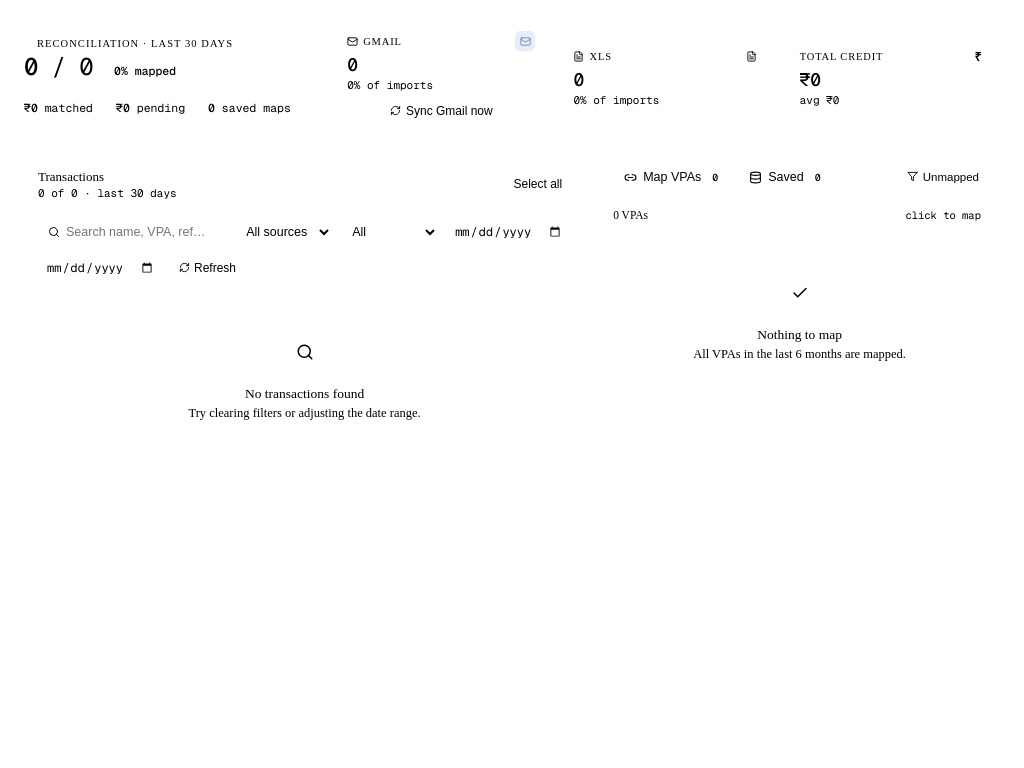
Test: Sync Gmail now on the UPI page (MN-06) › when Gmail is not connected the server's message is shown
Click the button with test id "sync-gmail".
click(441, 111)  # box [347,100,536,122]
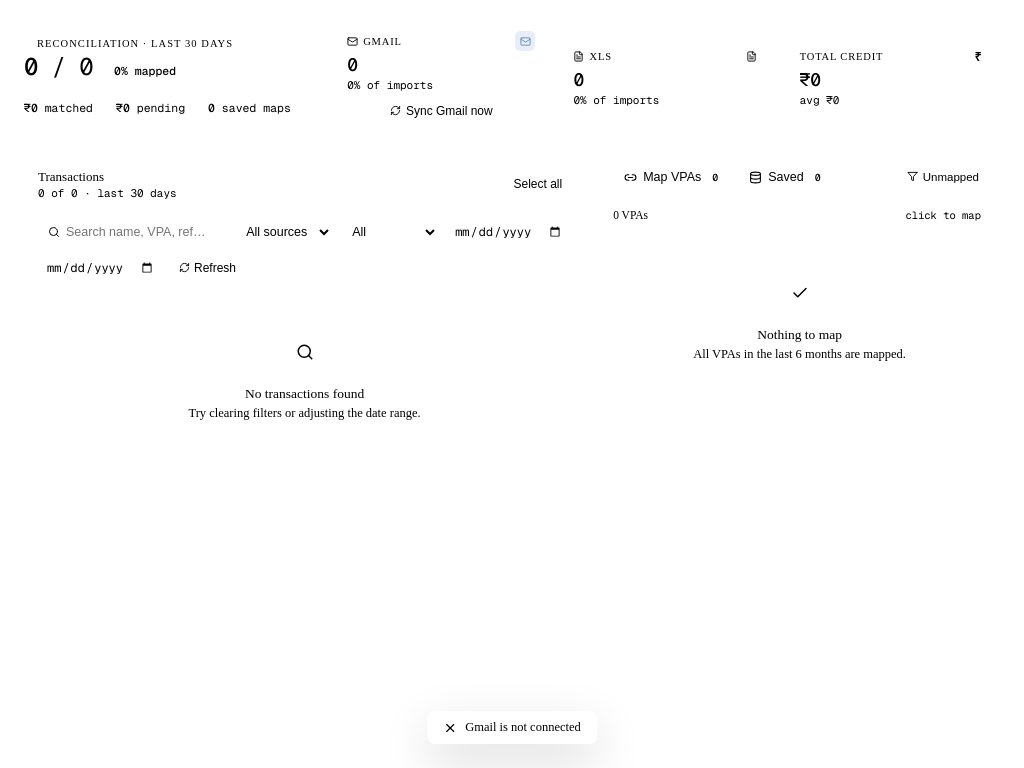
Expected: the text "Gmail is not connected" is shown, [427,711,597,744]
